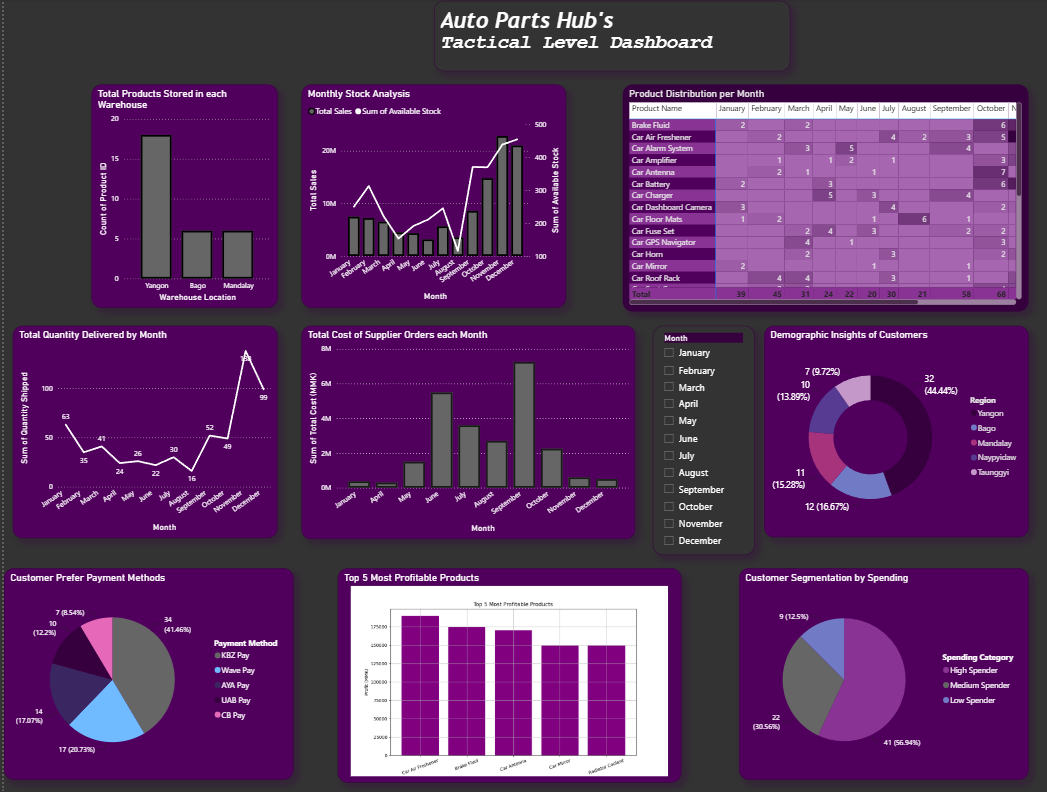

What the dashboard file says about the page in this screenshot:
{"tool":"powerbi","page":{"name":"Tactical_Level_Dashboard ","canvas":[1780,1800],"ordinal":1},"visuals":[{"type":"pivotTable","title":"Product Distribution per Month","fields":{"Rows":["Inventory Table.Product Name"],"Columns":["Order Table.Order Date.Variation.Date Hierarchy.Month"],"Values":["Inventory Table.Total Stock Used"]},"box":[1054,158,690,386],"z":0},{"type":"lineClusteredColumnComboChart","title":"Monthly Stock Analysis","fields":{"Category":["Order Table.Order Date.Variation.Date Hierarchy.Month"],"Y":["Order Table.Total Sales"],"Y2":["Sum(Inventory Table.Available Stock)"]},"box":[506.7,158.3,450,380],"z":1000},{"type":"clusteredColumnChart","title":"Total Cost of Supplier Orders each Month","fields":{"Y":["Sum(Supplier Orders Table.Total Cost (MMK))"],"Category":["Supplier Orders Table.Order Date.Variation.Date Hierarchy.Month"]},"box":[506.7,568.3,568.3,363.3],"z":2000},{"type":"slicer","fields":{"Values":["Order Table.Order Date.Variation.Date Hierarchy.Month"]},"box":[1105,568.3,173.3,390],"z":3000},{"type":"lineChart","title":"Total Quantity Delivered by Month","fields":{"Category":["Delivery Table.Delivery Date.Variation.Date Hierarchy.Month"],"Y":["Sum(Delivery Table.Quantity Shipped)"]},"box":[15,568.3,450,361.7],"z":4000},{"type":"donutChart","title":"Demographic Insights of Customers","fields":{"Y":["CountNonNull(Customer Table.Customer ID)"],"Category":["Customer Table.Region"]},"box":[1293.3,568.3,450,360],"z":5000},{"type":"pieChart","title":"Customer Prefer Payment Methods","fields":{"Category":["Payment Table.Payment Method"],"Y":["CountNonNull(Payment Table.Payment ID)"]},"box":[0,980,492.5,360],"z":6000},{"type":"pythonVisual","title":"Top 5 Most Profitable Products","fields":{"Values":["Inventory Table.Product Name","Inventory Table.Unit Cost (MMK)","Inventory Table.Unit Price (MMK)"]},"box":[567.5,980,585,365],"z":7000},{"type":"columnChart","title":"Total Products Stored in each Warehouse","fields":{"Y":["CountNonNull(Inventory Table.Product ID)"],"Category":["Inventory Table.Warehouse Location"]},"box":[148.3,158.3,316.7,380],"z":8000},{"type":"pieChart","title":"Customer Segmentation by Spending","fields":{"Category":["Customer Spending Segments.Spending Category"],"Y":["Customer Spending Segments.Customer Count by Category"]},"box":[1250,980,492.5,360],"z":9000},{"type":"textbox","box":[732,14,606,120],"z":10000}]}

Visuals, with their boxes on the page's 1780x1800 design canvas (x1, y1, x2, y2). These are canvas units, not pixel positions in the 1047x792 screenshot, which may show the page scaled, cropped or inside an application window:
"Product Distribution per Month" pivotTable: crop(1054, 158, 1744, 544)
"Monthly Stock Analysis" lineClusteredColumnComboChart: crop(507, 158, 957, 538)
"Total Cost of Supplier Orders each Month" clusteredColumnChart: crop(507, 568, 1075, 932)
slicer - Order Table.Order Date.Variation.Date Hierarchy.Month: crop(1105, 568, 1278, 958)
"Total Quantity Delivered by Month" lineChart: crop(15, 568, 465, 930)
"Demographic Insights of Customers" donutChart: crop(1293, 568, 1743, 928)
"Customer Prefer Payment Methods" pieChart: crop(0, 980, 492, 1340)
"Top 5 Most Profitable Products" pythonVisual: crop(568, 980, 1152, 1345)
"Total Products Stored in each Warehouse" columnChart: crop(148, 158, 465, 538)
"Customer Segmentation by Spending" pieChart: crop(1250, 980, 1742, 1340)
textbox: crop(732, 14, 1338, 134)
